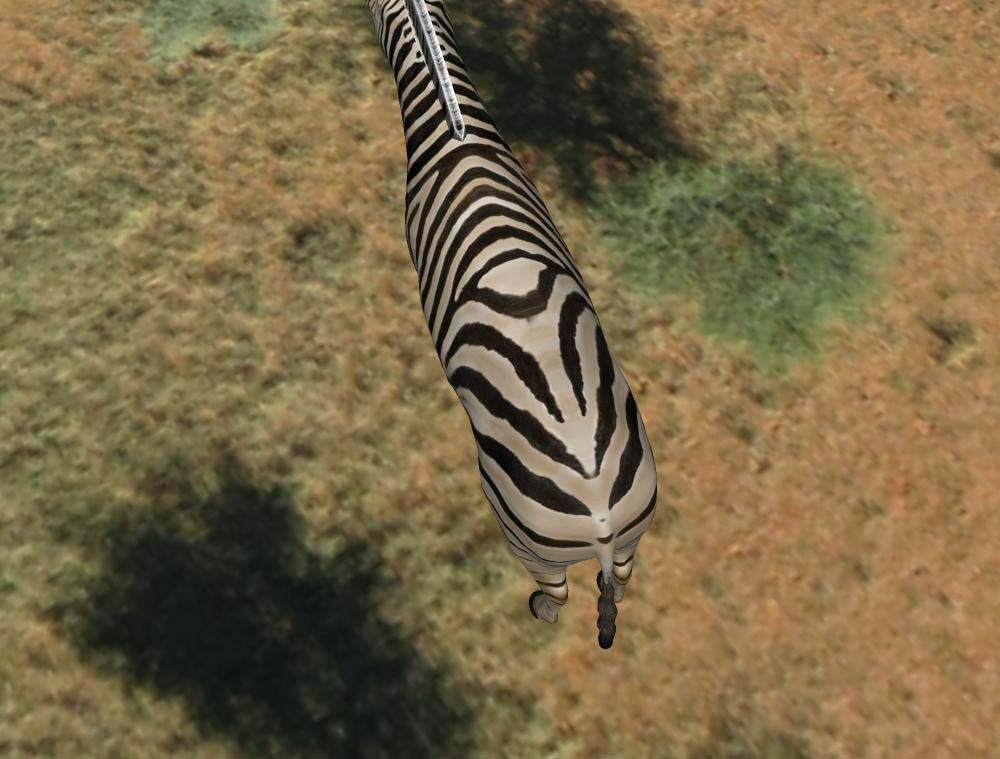zebra: (359, 1, 663, 650)
